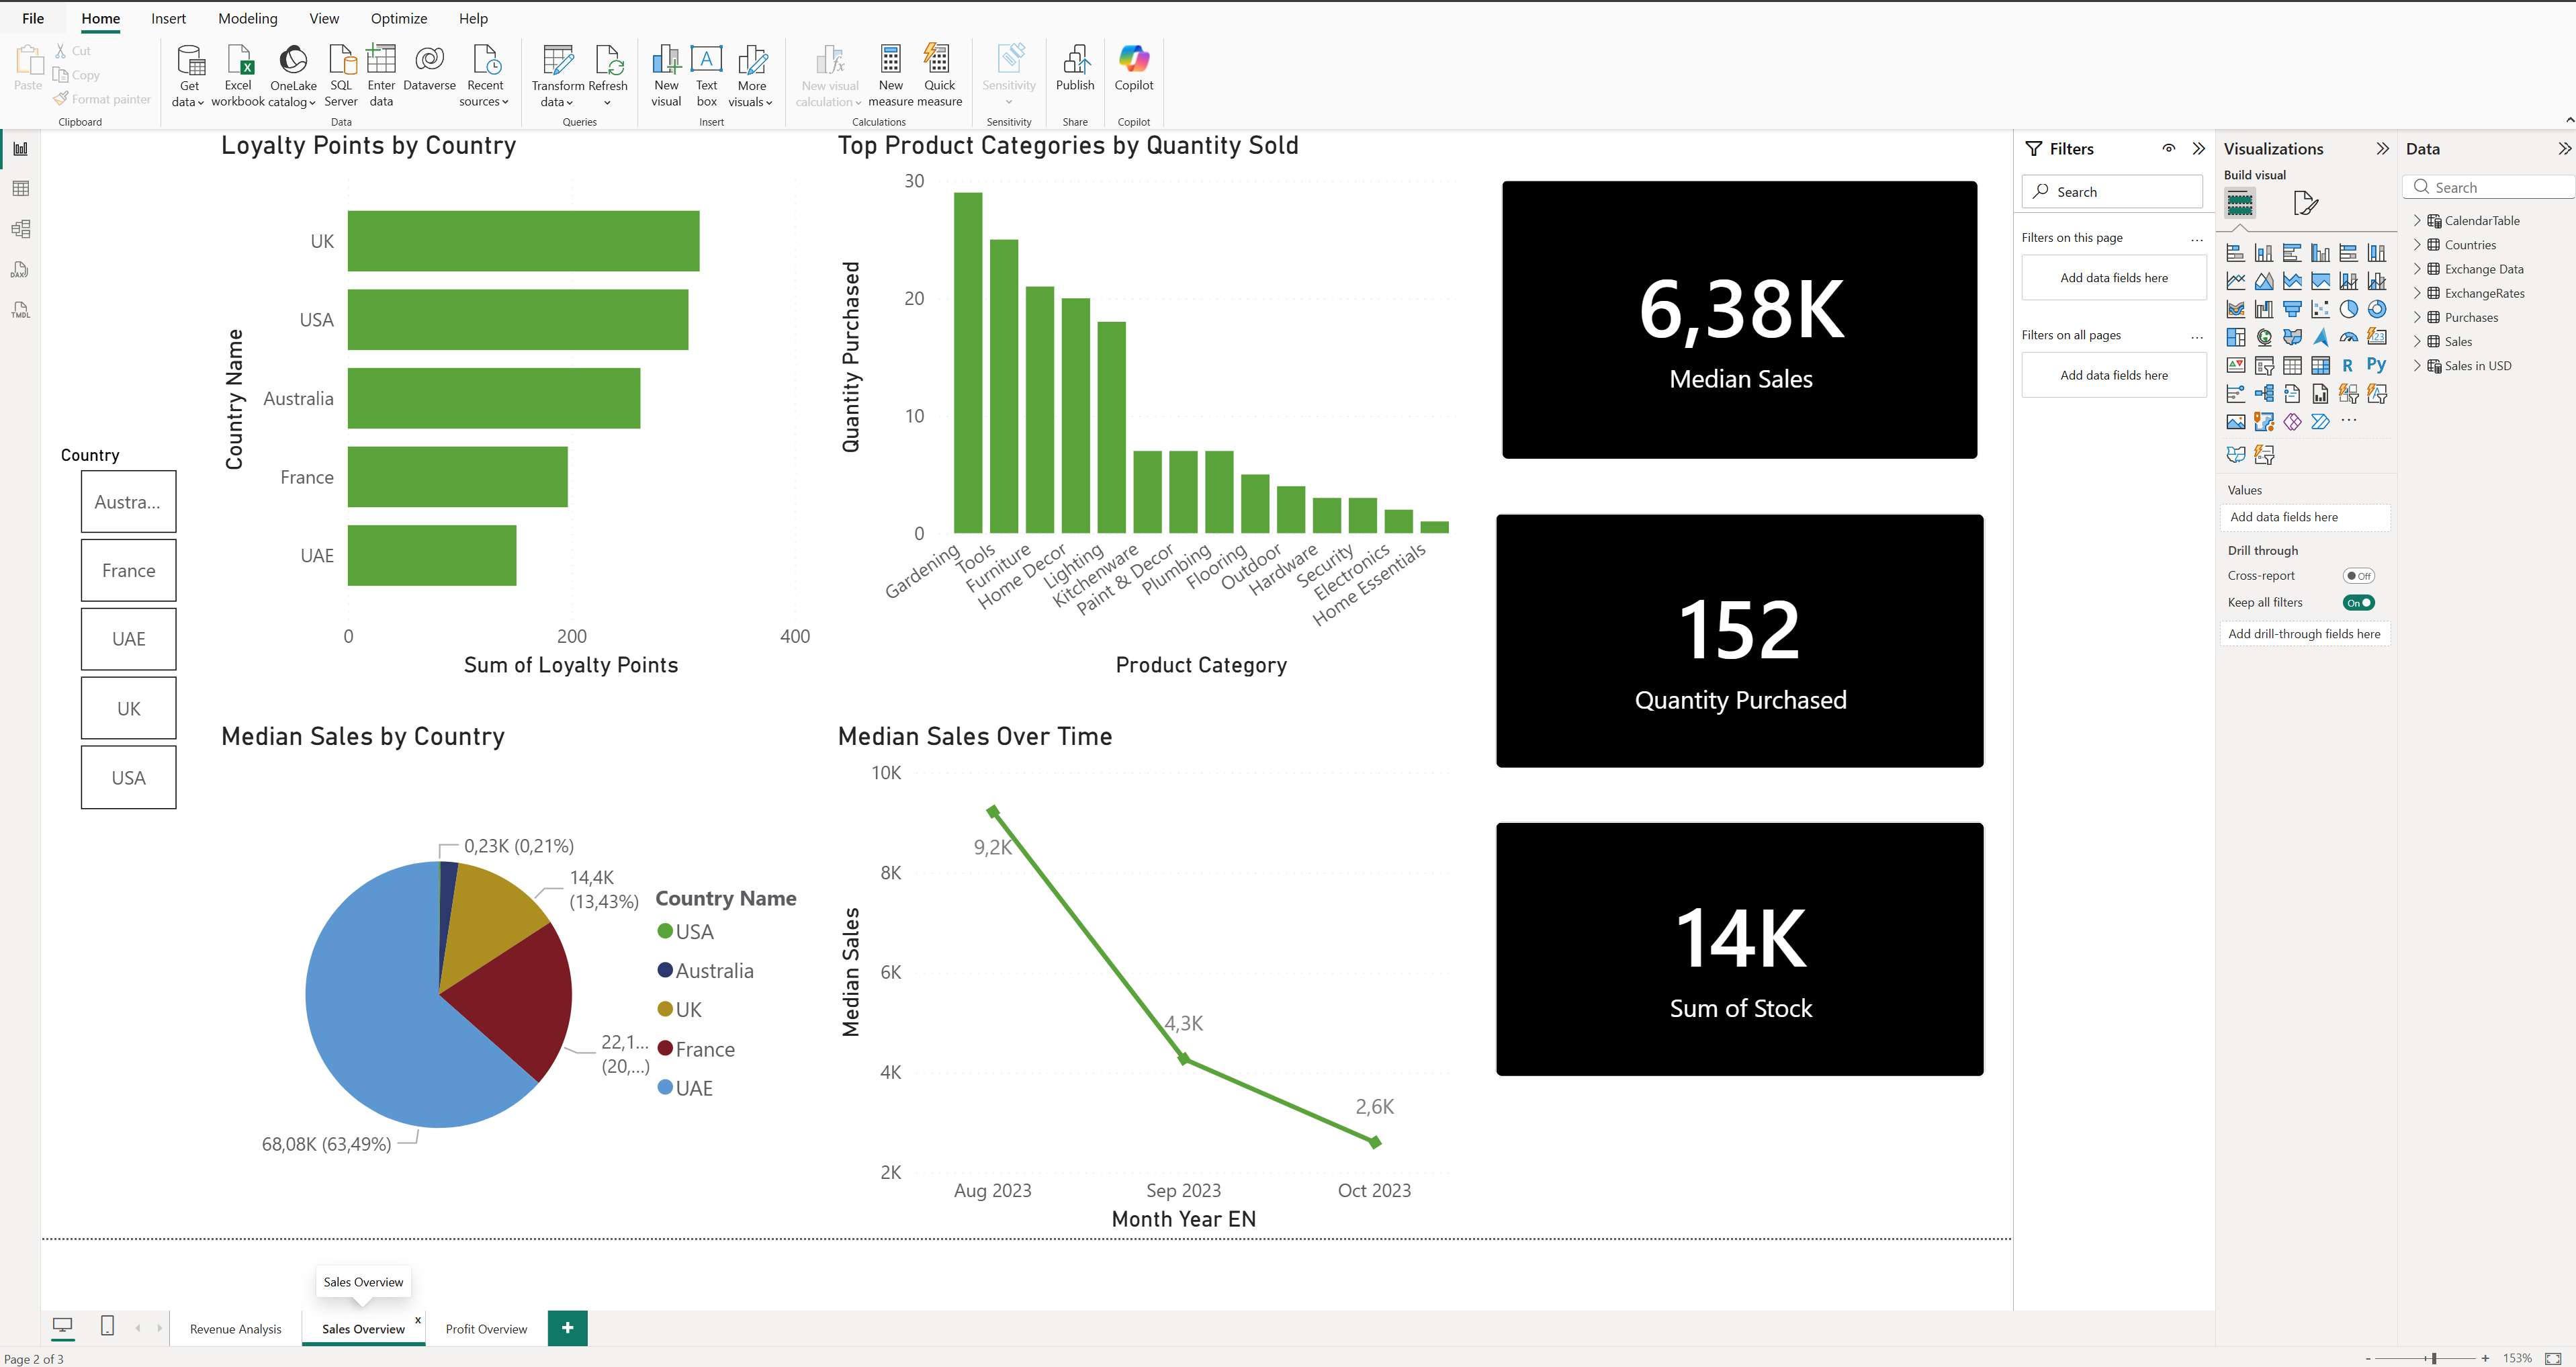

What the dashboard file says about the page in this screenshot:
{"tool":"powerbi","page":{"name":"Sales Overview","canvas":[1280,720],"ordinal":2},"visuals":[{"type":"clusteredBarChart","title":"Loyalty Points by Country","fields":{"Y":["Sum(Sales in USD. Loyalty Points)"],"Category":["Sales in USD.Country Name"]},"box":[112,0,392,360],"z":0},{"type":"clusteredColumnChart","title":"Top Product Categories by Quantity Sold","fields":{"Category":["Sales in USD.Product Category"],"Y":["Sum(Sales in USD.Quantity Purchased)"]},"box":[512,0,416,360],"z":1000},{"type":"pieChart","title":"Median Sales by Country","fields":{"Y":["Sales in USD.Median Sales"],"Category":["Sales in USD.Country Name"]},"box":[112,384,400,336],"z":2000},{"type":"lineChart","title":"Median Sales Over Time","fields":{"Y":["Sales in USD.Median Sales"],"Category":["CalendarTable.Month Year EN"]},"box":[512,384,408,336],"z":3000},{"type":"cardVisual","fields":{"Data":["Sales in USD.Median Sales"]},"box":[930.7,16,344,216],"z":4000},{"type":"cardVisual","fields":{"Data":["Sum(Sales in USD.Quantity Purchased)"]},"box":[926.7,232,352,200],"z":5000},{"type":"cardVisual","fields":{"Data":["Sum(Sales in USD.Stock)"]},"box":[926.7,432,352,200],"z":6000},{"type":"slicer","fields":{"Values":["Sales in USD.Country Name"]},"box":[0,200,112,248],"z":7000}]}

Visuals, with their boxes on the page's 1280x720 design canvas (x1, y1, x2, y2). These are canvas units, not pixel positions in the 2576x1367 screenshot, which may show the page scaled, cropped or inside an application window:
"Loyalty Points by Country" clusteredBarChart: box(112, 0, 504, 360)
"Top Product Categories by Quantity Sold" clusteredColumnChart: box(512, 0, 928, 360)
"Median Sales by Country" pieChart: box(112, 384, 512, 720)
"Median Sales Over Time" lineChart: box(512, 384, 920, 720)
cardVisual - Sales in USD.Median Sales: box(931, 16, 1275, 232)
cardVisual - Sum(Sales in USD.Quantity Purchased): box(927, 232, 1279, 432)
cardVisual - Sum(Sales in USD.Stock): box(927, 432, 1279, 632)
slicer - Sales in USD.Country Name: box(0, 200, 112, 448)
